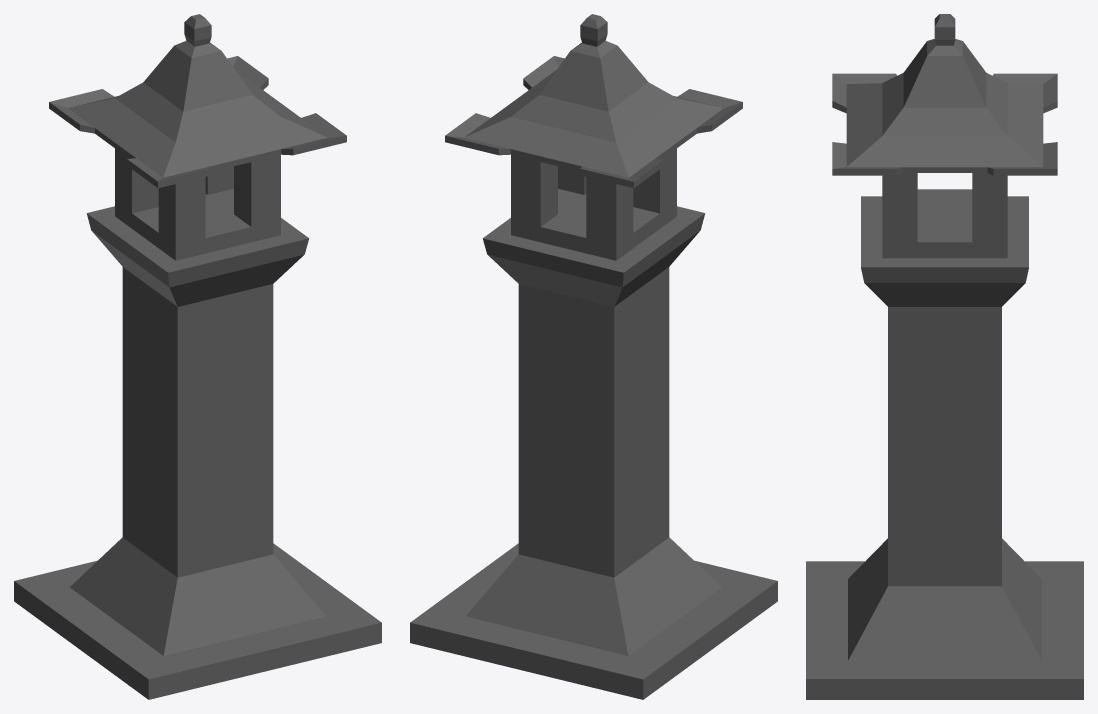
Rendered from Shrine_Statue_1.fbx.
The picture shows the model from 3 angles, left to right: view 1: azimuth 30°, elevation 25°; view 2: azimuth 150°, elevation 25°; view 3: azimuth 270°, elevation 25°; orthographic projection. The views are drawn at different scales.
Parts seen in each view (by area): view 1: Shire_Statue_1; view 2: Shire_Statue_1; view 3: Shire_Statue_1.
Boxes of the visible parts, x1=… form: Shire_Statue_1: x1=14, y1=14, x2=381, y2=699; Shire_Statue_1: x1=410, y1=14, x2=777, y2=699; Shire_Statue_1: x1=806, y1=14, x2=1083, y2=699.
Bounding box in the file's own units: 64.79 × 161 × 64.79.
